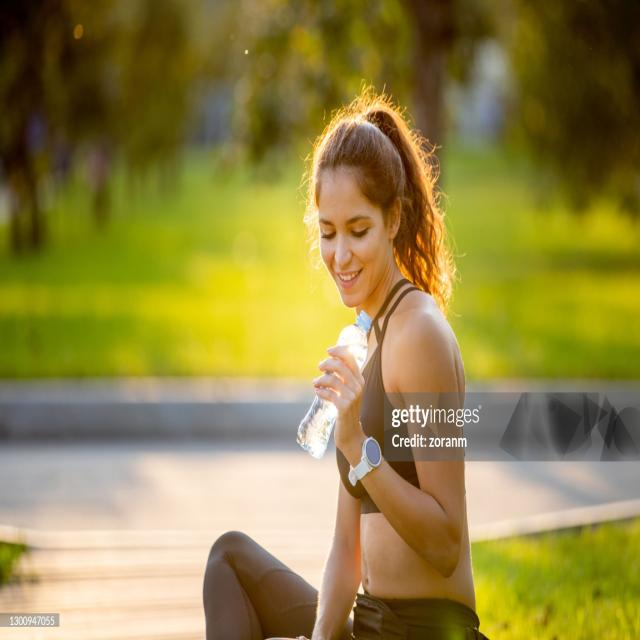bottle: (296, 310, 372, 460)
